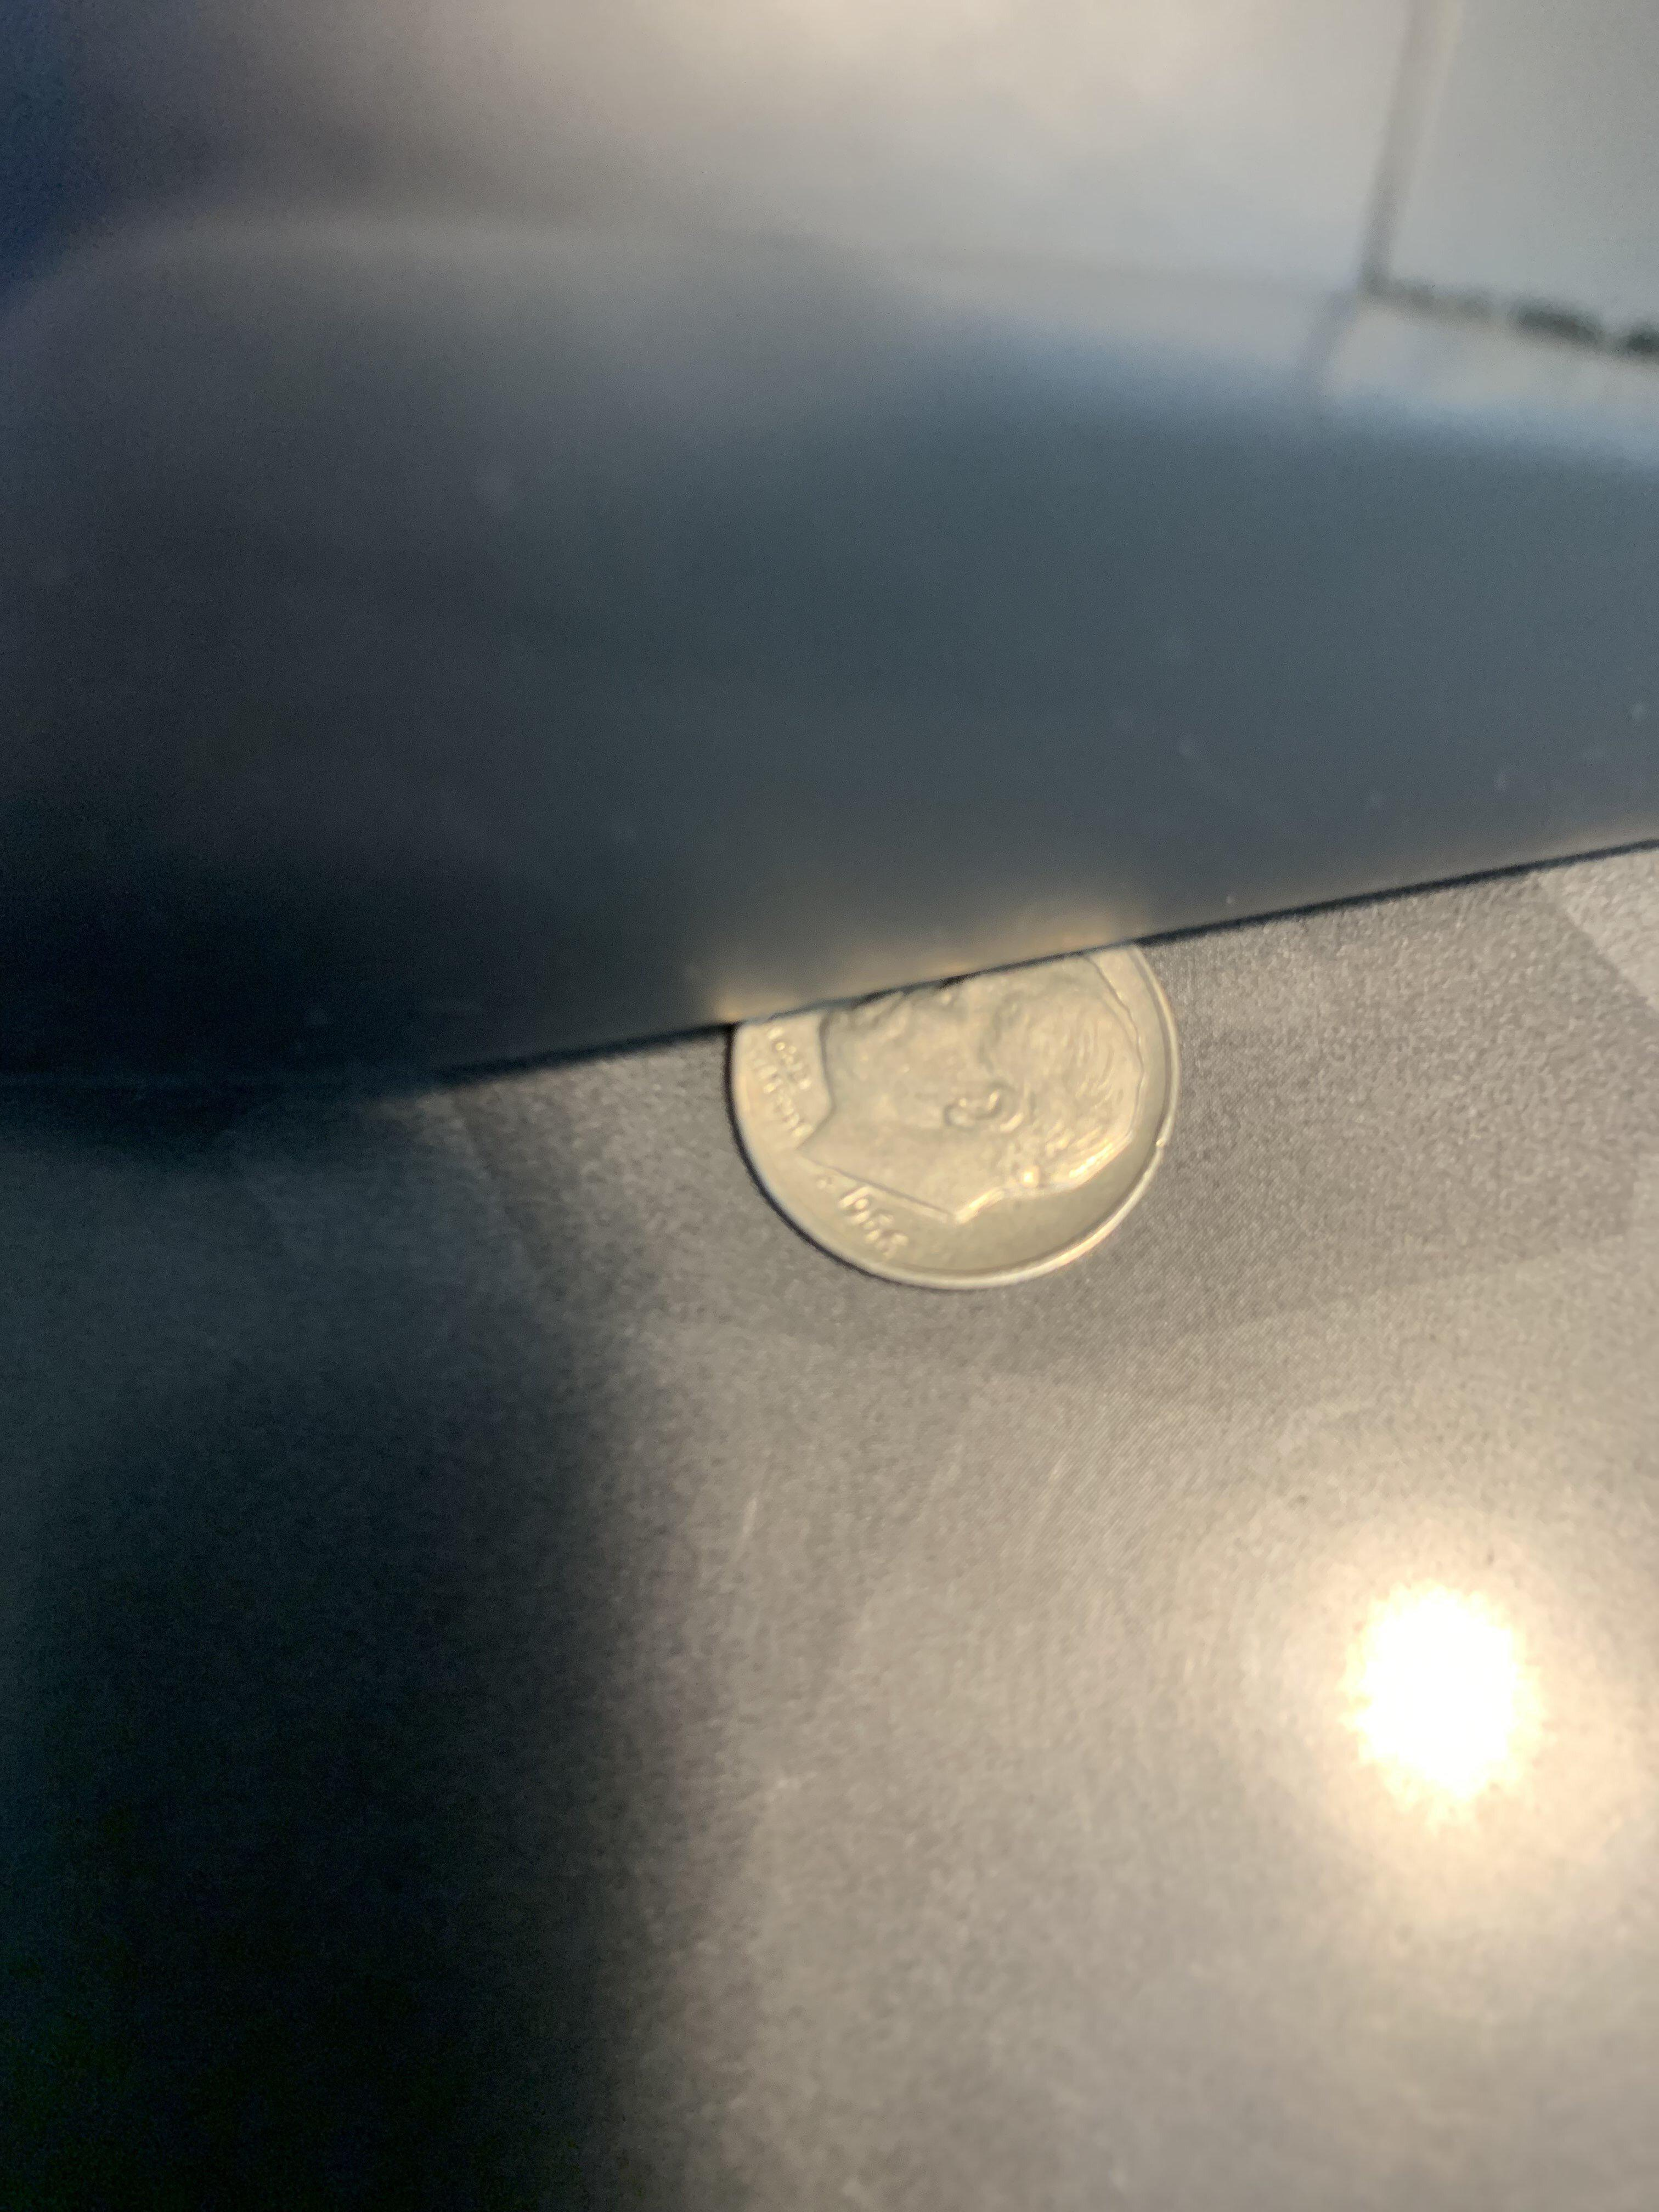Dime: (659, 909, 1272, 1372)
